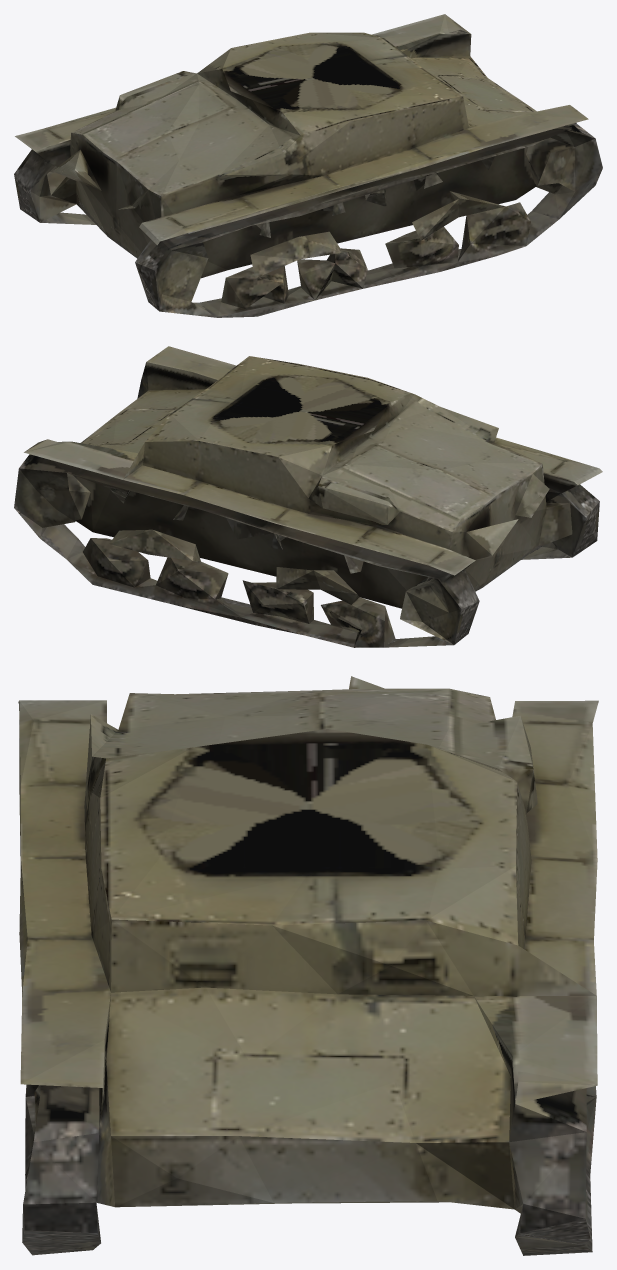
File: hull.obj
3 renders of one model, top to bottom at view 1: azimuth 30°, elevation 25°; view 2: azimuth 150°, elevation 25°; view 3: azimuth 270°, elevation 25°, orthographic. The views are drawn at different scales.
Bounding box in the file's own units: 0.9934 × 0.3339 × 0.5557.
Materials: 1 (1 with a texture image).
